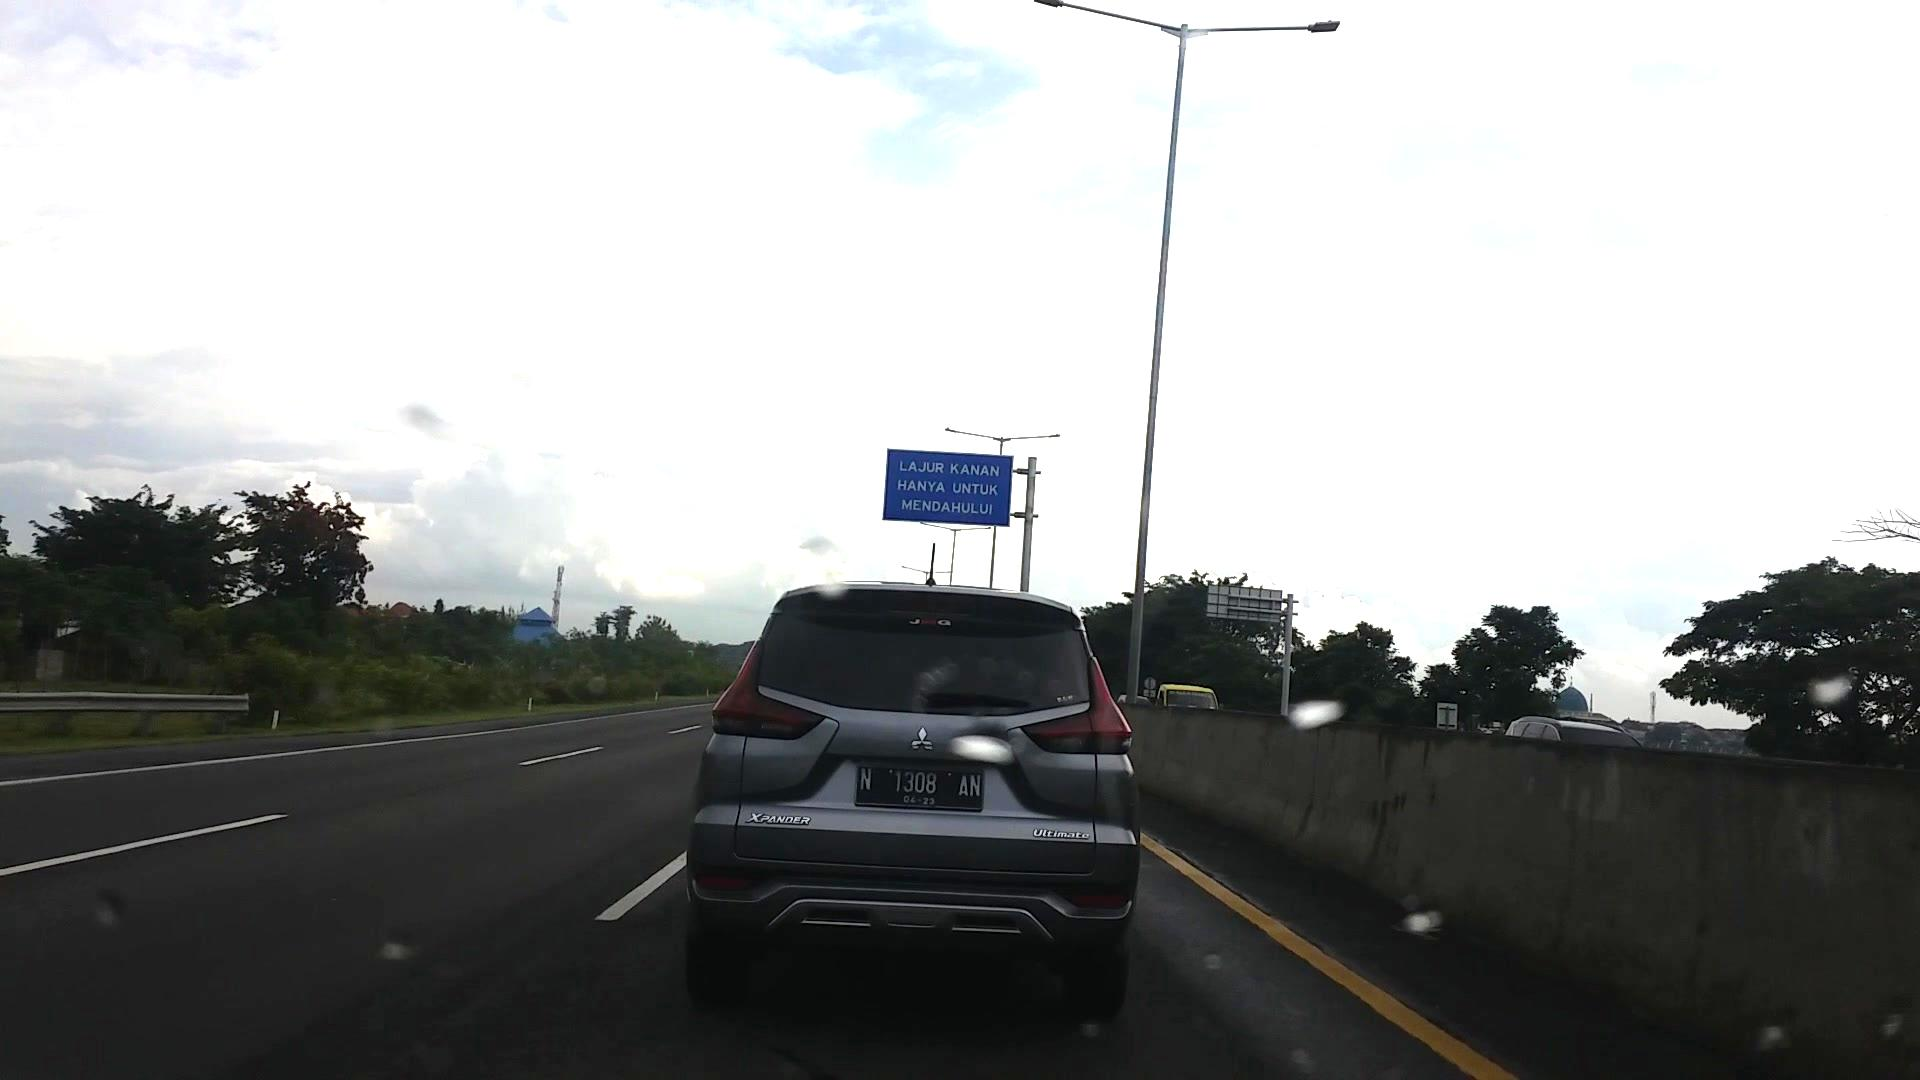plate_positive: (855, 764, 985, 811)
